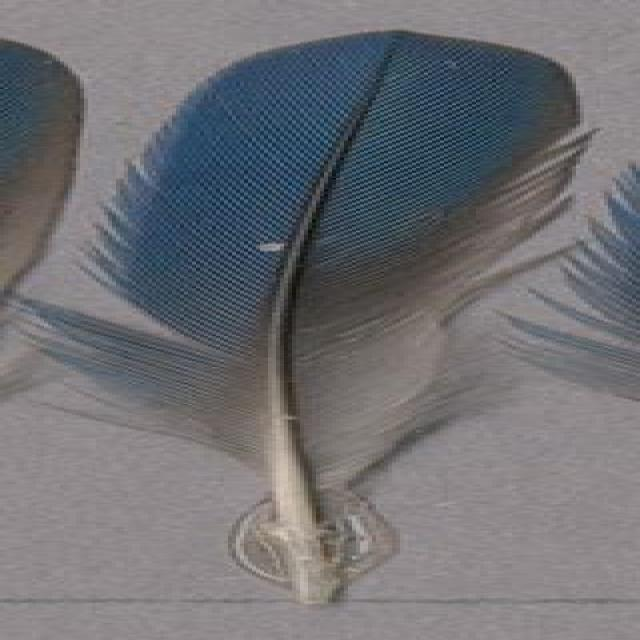feather: (15, 25, 600, 604)
